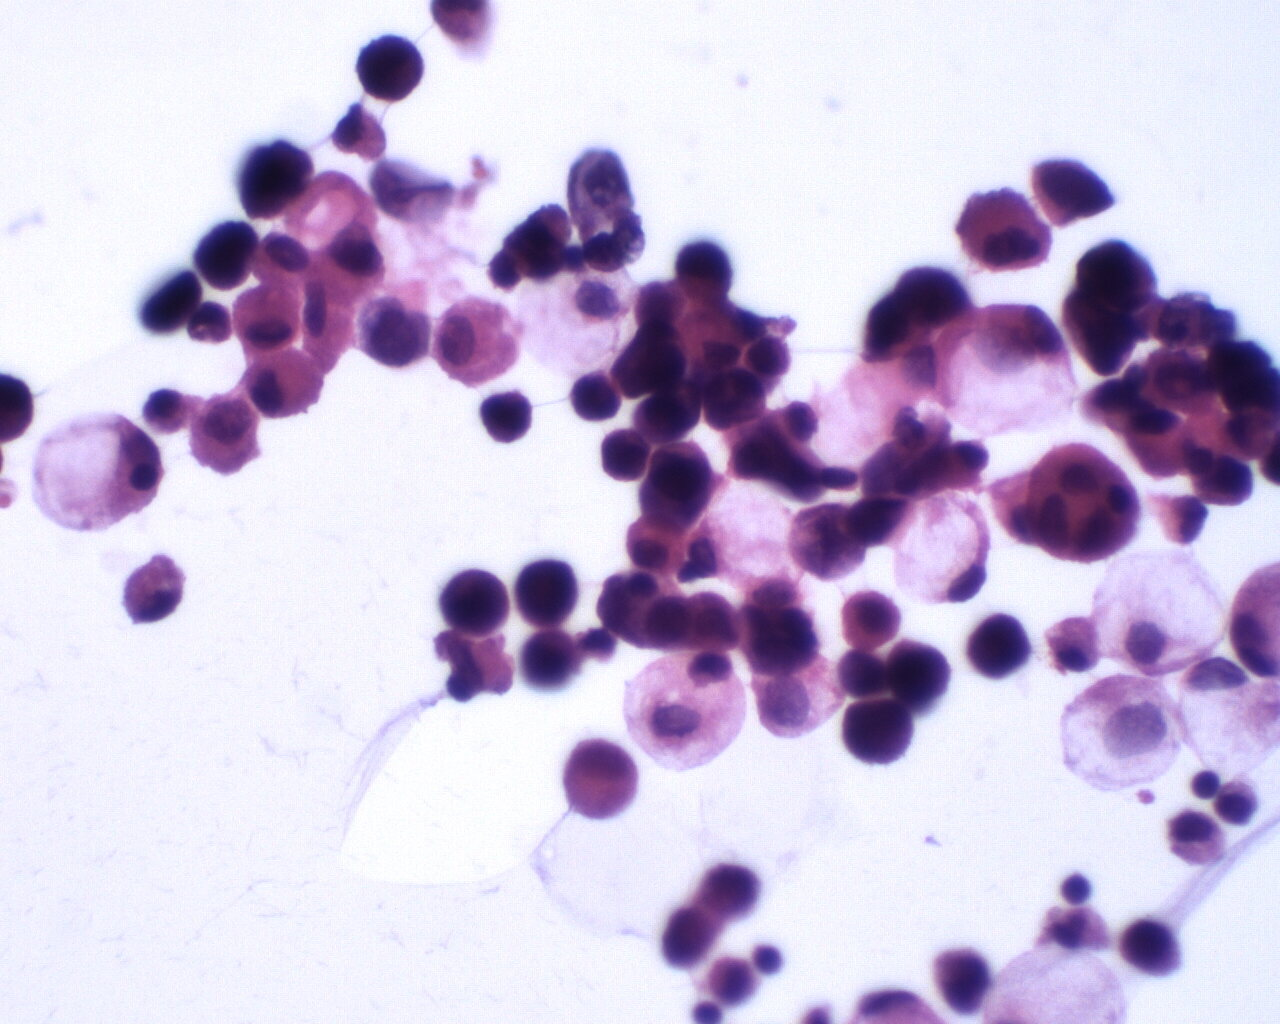ab: (954, 184, 1052, 276), (635, 438, 722, 530), (234, 134, 321, 222), (1031, 153, 1123, 229), (736, 598, 821, 679), (185, 394, 266, 478), (350, 33, 429, 108), (884, 637, 956, 717), (191, 216, 263, 292), (510, 557, 588, 626), (839, 698, 915, 768), (1116, 912, 1193, 980), (440, 569, 513, 639), (961, 610, 1031, 682), (634, 376, 703, 447), (655, 900, 723, 971), (700, 360, 769, 429), (695, 855, 765, 920), (478, 381, 537, 451), (569, 360, 627, 428), (519, 628, 575, 693), (597, 426, 650, 485)
histo: (1088, 542, 1230, 677), (23, 405, 161, 541), (618, 647, 752, 771), (890, 486, 996, 608), (1179, 654, 1280, 771)
lymph: (1054, 867, 1099, 909), (1185, 763, 1226, 805)
meso: (427, 290, 522, 388), (553, 734, 644, 827), (240, 346, 335, 421), (229, 279, 305, 357), (839, 587, 903, 653)
